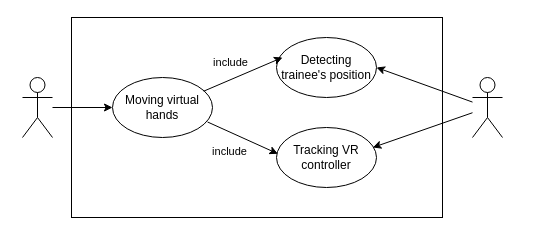
The diagram is 543 pixels wide and 235 high, and some of its shapes have lost their labels. Each missing label, with the centre of its shape:
"CAVE sensors" goes at (487,107).
"Trainee" goes at (37,107).
